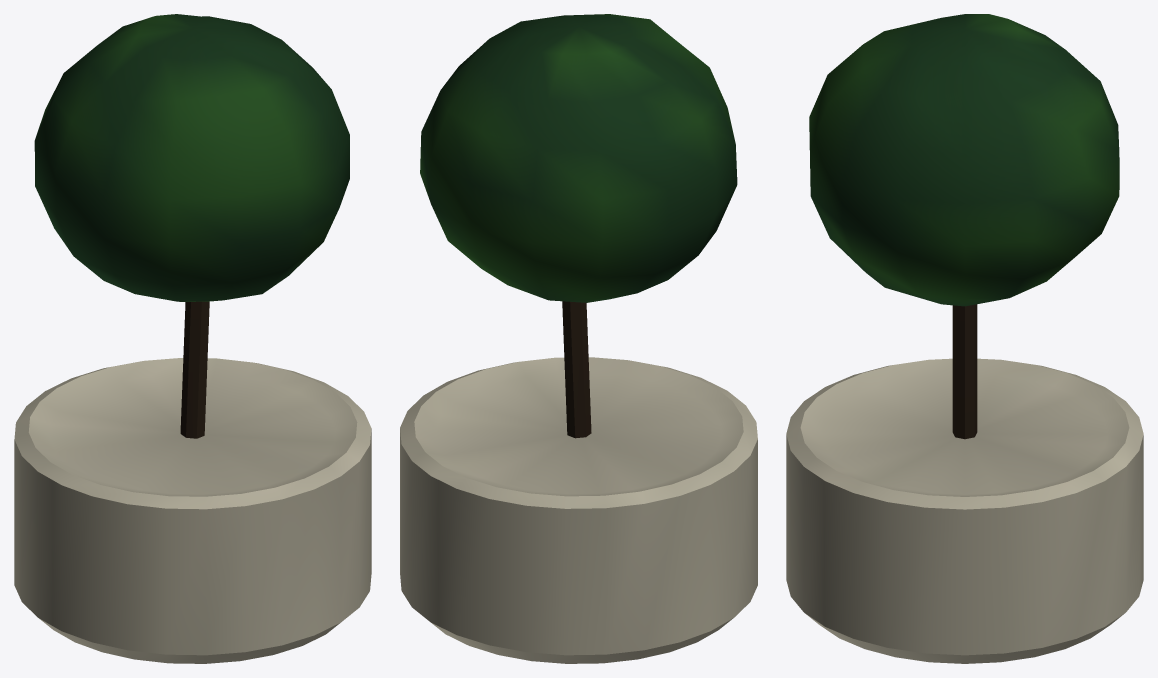
Rendered from ap-planter.glb.
3 views of the same model, side by side, from view 1: azimuth 30°, elevation 25°; view 2: azimuth 150°, elevation 25°; view 3: azimuth 270°, elevation 25° (orthographic).
Visible parts, largest first — view 1: pot__stone, foliage__plant, trunk__wood; view 2: pot__stone, foliage__plant, trunk__wood; view 3: pot__stone, foliage__plant, trunk__wood.
Part boxes in pixels (x1,y1,x2,y2): pot__stone: [14, 358, 371, 663]; foliage__plant: [34, 14, 349, 301]; trunk__wood: [180, 301, 209, 438]; pot__stone: [400, 357, 757, 663]; foliage__plant: [420, 14, 737, 302]; trunk__wood: [562, 301, 591, 438]; pot__stone: [786, 358, 1143, 663]; foliage__plant: [809, 14, 1119, 306]; trunk__wood: [952, 304, 977, 439].
Bounding box in the file's own units: 1 × 1.75 × 1.
